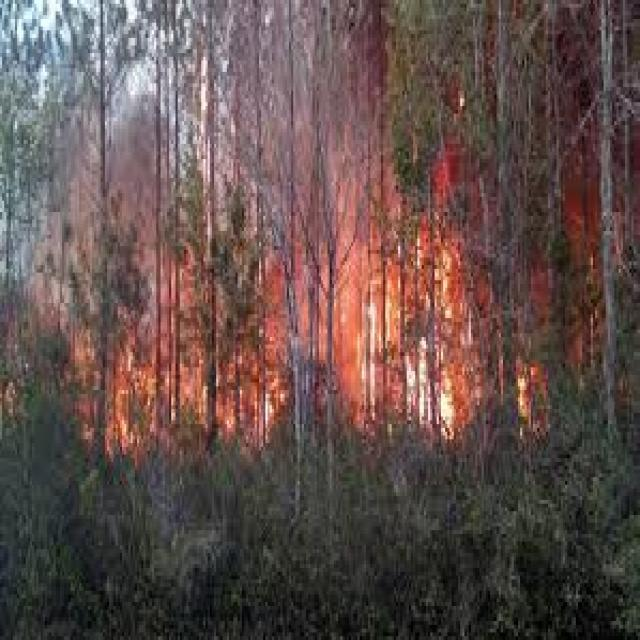Fire: (67, 152, 544, 442)
